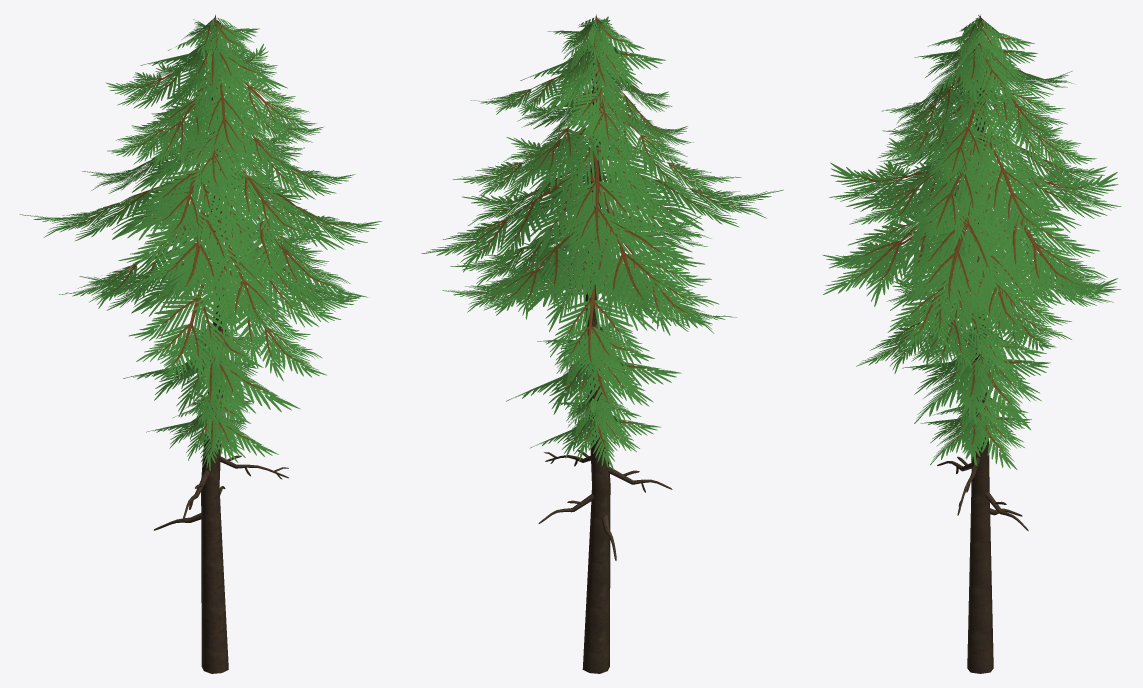
Rendered from pine_tree_lush.glb.
3 renders of one model, left to right at view 1: azimuth 30°, elevation 25°; view 2: azimuth 150°, elevation 25°; view 3: azimuth 270°, elevation 25°, orthographic.
Parts seen in each view (by area): view 1: PineTree_2; view 2: PineTree_2; view 3: PineTree_2.
Part boxes in pixels (x1,y1,x2,y2): PineTree_2: (19,14,381,673); PineTree_2: (421,14,783,673); PineTree_2: (822,14,1121,673).
Bounding box in the file's own units: 0.4743 × 1 × 0.4313.
2 materials, 2 textured.
